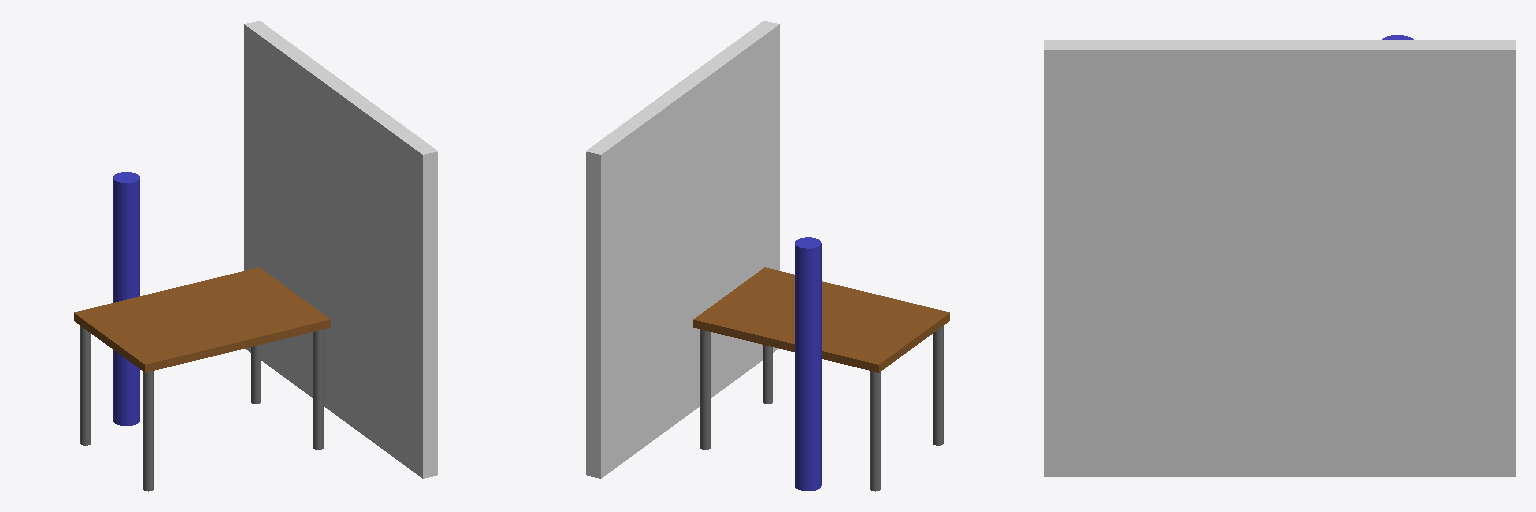
URDF robot description (demo_scene):
<?xml version="1.0"?>
<!--
  Demo Scene URDF
  这个URDF定义了一个简单的场景，包含：
  - 桌子 (table)
  - 墙壁 (wall)
  - 立柱 (pillar)
  
  用途：作为MoveIt规划的静态障碍物
-->
<robot name="demo_scene">
  
  <!-- ==================== 世界基准链接 ==================== -->
  <!-- 这是场景的根坐标系，所有物体相对于此定义位置 -->
  <link name="world"/>
  
  <!-- ==================== 桌子 ==================== -->
  <!-- 桌面：长1.2m x 宽0.8m x 高0.05m，桌面高度0.75m -->
  <link name="table_top">
    <visual>
      <geometry>
        <box size="1.2 0.8 0.05"/>
      </geometry>
      <material name="wood">
        <color rgba="0.6 0.4 0.2 1.0"/>
      </material>
    </visual>
    <collision>
      <geometry>
        <box size="1.2 0.8 0.05"/>
      </geometry>
    </collision>
  </link>
  
  <!-- 桌子位置：前方0.6m处，高度0.75m（桌面中心） -->
  <joint name="world_to_table" type="fixed">
    <parent link="world"/>
    <child link="table_top"/>
    <origin xyz="0.6 0.0 0.775" rpy="0 0 0"/>
  </joint>
  
  <!-- 桌腿1（前左） -->
  <link name="table_leg_fl">
    <visual>
      <geometry>
        <cylinder radius="0.03" length="0.75"/>
      </geometry>
      <material name="metal">
        <color rgba="0.5 0.5 0.5 1.0"/>
      </material>
    </visual>
    <collision>
      <geometry>
        <cylinder radius="0.03" length="0.75"/>
      </geometry>
    </collision>
  </link>
  
  <joint name="table_to_leg_fl" type="fixed">
    <parent link="table_top"/>
    <child link="table_leg_fl"/>
    <origin xyz="0.55 0.35 -0.4" rpy="0 0 0"/>
  </joint>
  
  <!-- 桌腿2（前右） -->
  <link name="table_leg_fr">
    <visual>
      <geometry>
        <cylinder radius="0.03" length="0.75"/>
      </geometry>
      <material name="metal">
        <color rgba="0.5 0.5 0.5 1.0"/>
      </material>
    </visual>
    <collision>
      <geometry>
        <cylinder radius="0.03" length="0.75"/>
      </geometry>
    </collision>
  </link>
  
  <joint name="table_to_leg_fr" type="fixed">
    <parent link="table_top"/>
    <child link="table_leg_fr"/>
    <origin xyz="0.55 -0.35 -0.4" rpy="0 0 0"/>
  </joint>
  
  <!-- 桌腿3（后左） -->
  <link name="table_leg_bl">
    <visual>
      <geometry>
        <cylinder radius="0.03" length="0.75"/>
      </geometry>
      <material name="metal">
        <color rgba="0.5 0.5 0.5 1.0"/>
      </material>
    </visual>
    <collision>
      <geometry>
        <cylinder radius="0.03" length="0.75"/>
      </geometry>
    </collision>
  </link>
  
  <joint name="table_to_leg_bl" type="fixed">
    <parent link="table_top"/>
    <child link="table_leg_bl"/>
    <origin xyz="-0.55 0.35 -0.4" rpy="0 0 0"/>
  </joint>
  
  <!-- 桌腿4（后右） -->
  <link name="table_leg_br">
    <visual>
      <geometry>
        <cylinder radius="0.03" length="0.75"/>
      </geometry>
      <material name="metal">
        <color rgba="0.5 0.5 0.5 1.0"/>
      </material>
    </visual>
    <collision>
      <geometry>
        <cylinder radius="0.03" length="0.75"/>
      </geometry>
    </collision>
  </link>
  
  <joint name="table_to_leg_br" type="fixed">
    <parent link="table_top"/>
    <child link="table_leg_br"/>
    <origin xyz="-0.55 -0.35 -0.4" rpy="0 0 0"/>
  </joint>
  
  <!-- ==================== 墙壁 ==================== -->
  <!-- 后墙：宽2m x 高2m x 厚0.1m -->
  <link name="back_wall">
    <visual>
      <geometry>
        <box size="0.1 2.0 2.0"/>
      </geometry>
      <material name="wall">
        <color rgba="0.9 0.9 0.9 0.8"/>
      </material>
    </visual>
    <collision>
      <geometry>
        <box size="0.1 2.0 2.0"/>
      </geometry>
    </collision>
  </link>
  
  <!-- 墙壁位置：前方1.5m处 -->
  <joint name="world_to_wall" type="fixed">
    <parent link="world"/>
    <child link="back_wall"/>
    <origin xyz="1.5 0.0 1.0" rpy="0 0 0"/>
  </joint>
  
  <!-- ==================== 立柱障碍物 ==================== -->
  <!-- 圆柱立柱：直径0.15m x 高1.5m -->
  <link name="pillar">
    <visual>
      <geometry>
        <cylinder radius="0.075" length="1.5"/>
      </geometry>
      <material name="pillar_mat">
        <color rgba="0.3 0.3 0.8 1.0"/>
      </material>
    </visual>
    <collision>
      <geometry>
        <cylinder radius="0.075" length="1.5"/>
      </geometry>
    </collision>
  </link>
  
  <!-- 立柱位置：左前方 -->
  <joint name="world_to_pillar" type="fixed">
    <parent link="world"/>
    <child link="pillar"/>
    <origin xyz="0.4 0.5 0.75" rpy="0 0 0"/>
  </joint>

</robot>

--- What the picture shows (computed from the rendered views, not written in the file) ---
The picture shows the robot from 3 angles, left to right: view 1: azimuth 30°, elevation 25°; view 2: azimuth 150°, elevation 25°; view 3: azimuth 270°, elevation 25°; orthographic projection.
Robot: demo_scene — 8 links, 7 joints (7 fixed); root link world; default pose: all joints at 0.
Links seen in each view (by area): view 1: back_wall, table_top, pillar, table_leg_fr, table_leg_br, table_leg_bl, table_leg_fl; view 2: back_wall, table_top, pillar, table_leg_fl, table_leg_bl, table_leg_br, table_leg_fr; view 3: back_wall.
Boxes of the visible links, <box> form: back_wall: <box>244,21,437,478</box>; table_top: <box>74,267,330,372</box>; pillar: <box>113,172,139,425</box>; table_leg_fr: <box>313,329,323,449</box>; table_leg_br: <box>143,371,153,491</box>; table_leg_bl: <box>80,326,90,445</box>; table_leg_fl: <box>251,345,260,403</box>; back_wall: <box>586,21,779,478</box>; table_top: <box>693,267,949,372</box>; pillar: <box>795,237,821,490</box>; table_leg_fl: <box>700,329,710,449</box>; table_leg_bl: <box>870,371,880,491</box>; table_leg_br: <box>933,326,943,445</box>; table_leg_fr: <box>763,345,772,403</box>; back_wall: <box>1044,40,1515,476</box>.
Size in the robot's own frame: 1.55 by 2 by 2 metres.
Geometry: primitives only (box / cylinder / sphere), no mesh files.
